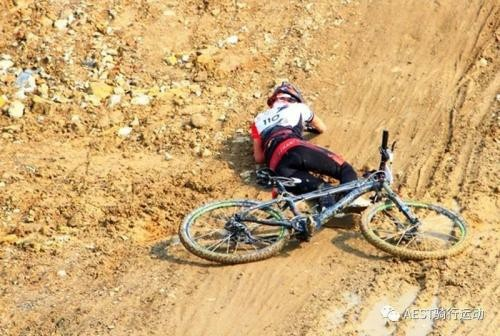falling: (238, 74, 378, 228)
